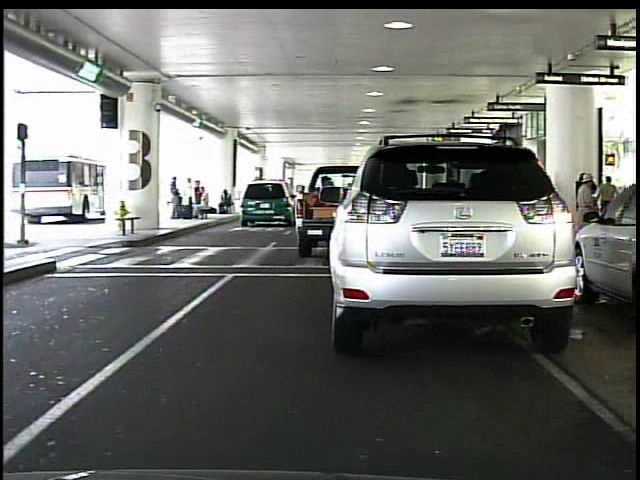person: (573, 169, 600, 255), (598, 173, 620, 233), (164, 170, 184, 223)
